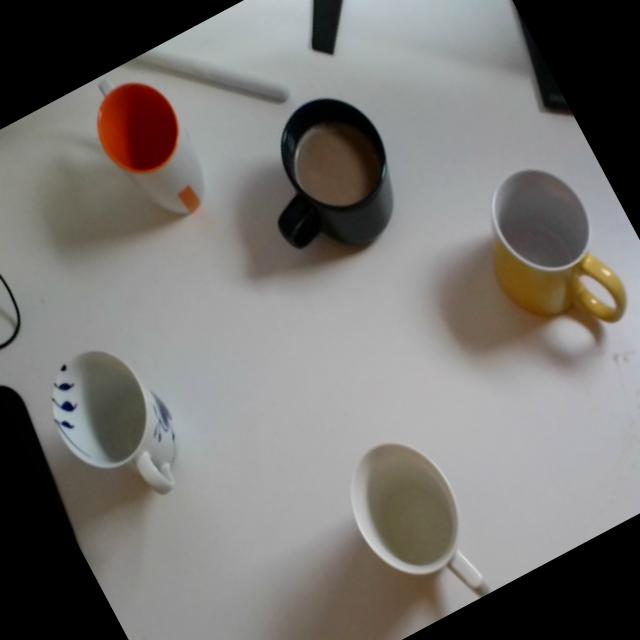Cocio Cup: (452, 146, 640, 360)
Cup: (230, 76, 423, 281)
Halloween cup: (321, 418, 506, 635)
Hand painted cup: (27, 322, 205, 531)
White Cup: (74, 54, 220, 232)
